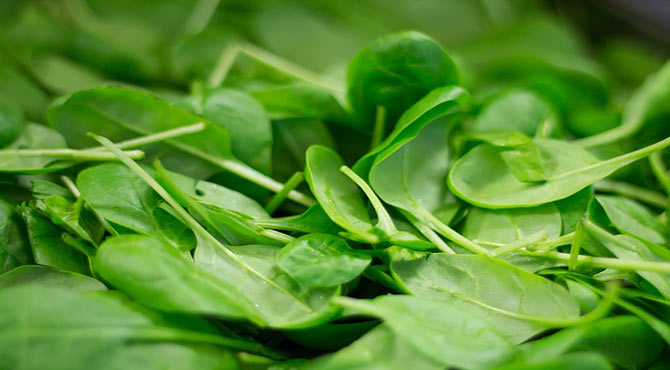spinach: (318, 89, 625, 356), (49, 90, 284, 323)
